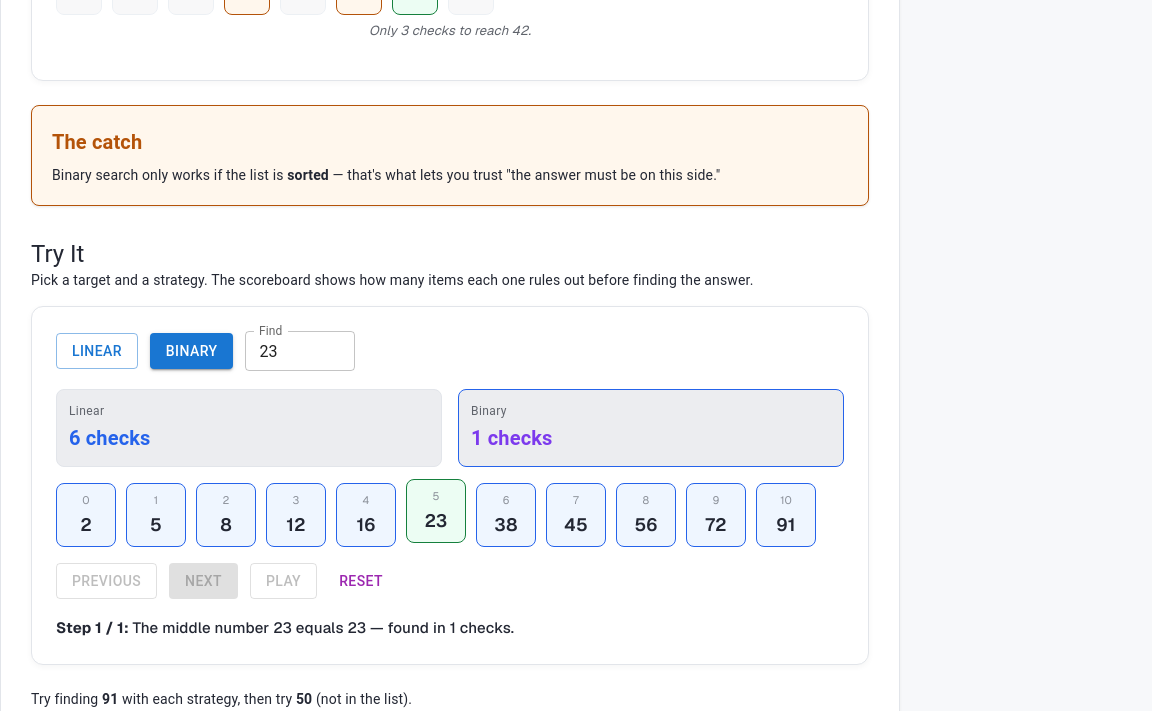
Test: SearchingConcept › recomputes the scoreboard when the target changes
(page scrolled)
Replace the text in the number field with "91". click: (300, 351)
box: [245,331,355,371]
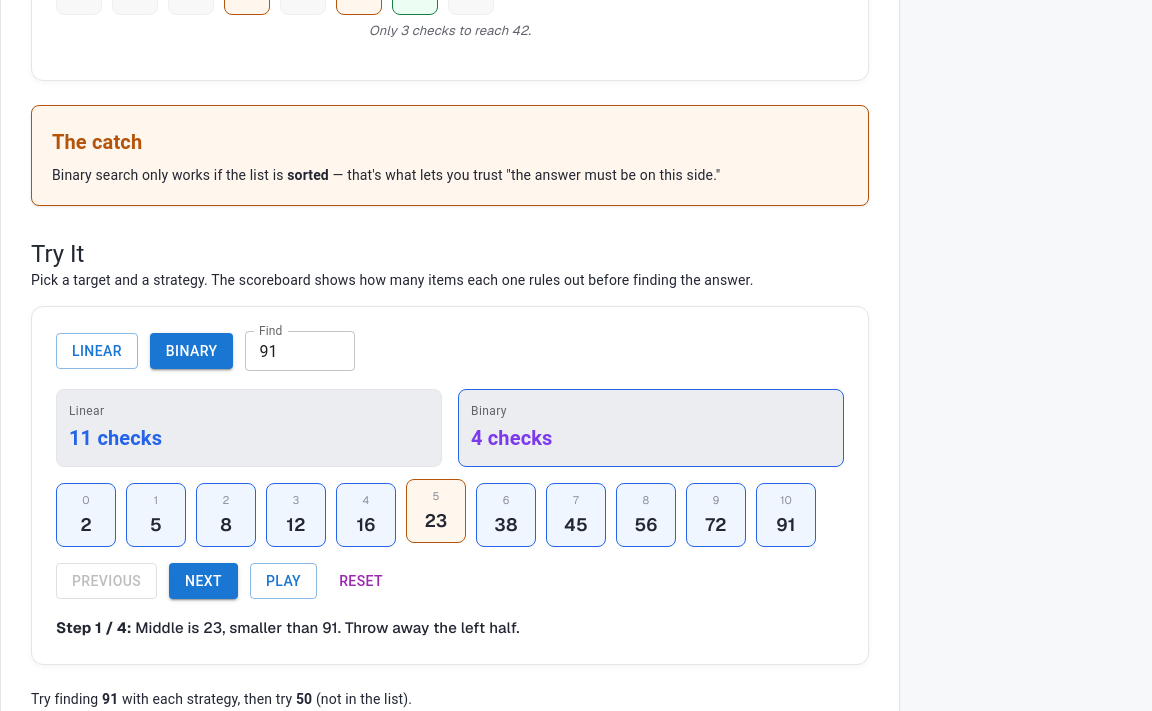
Check: the heading "11 checks" is shown, box [69,426,162,450]
